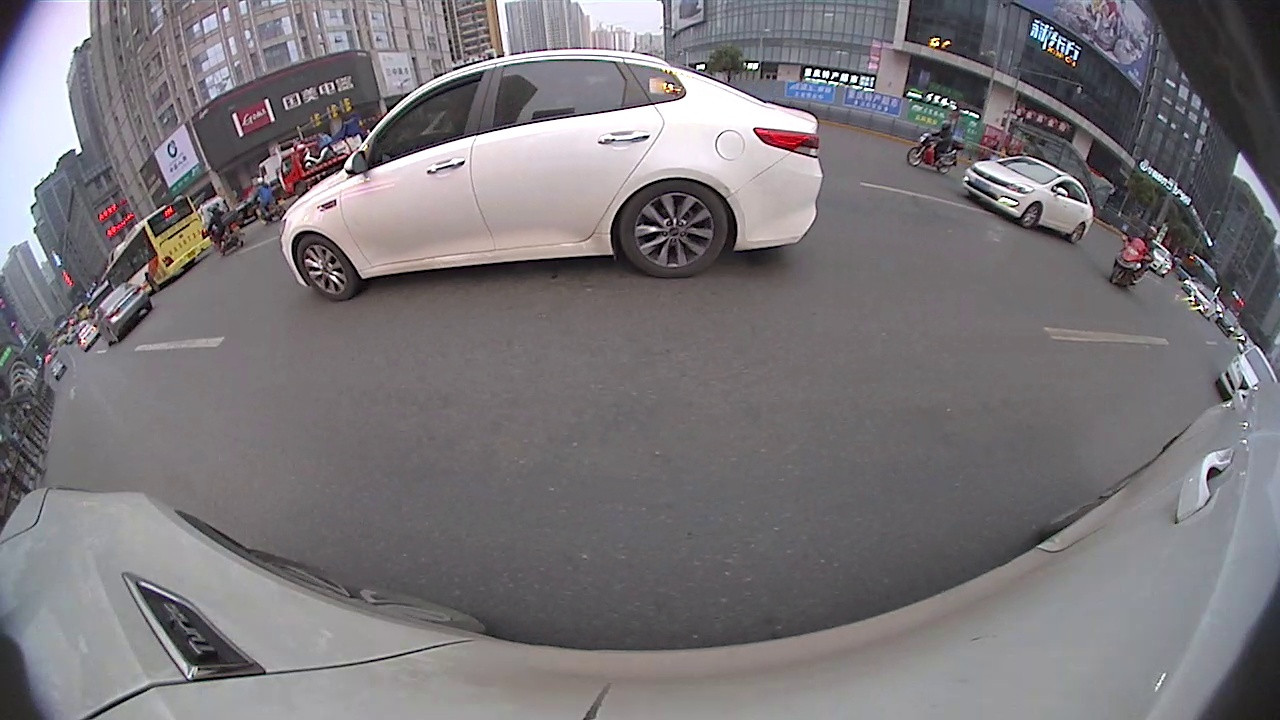bus: (101, 196, 210, 306)
car: (283, 44, 826, 307), (961, 160, 1099, 241), (97, 280, 154, 344), (1222, 347, 1279, 408)
front: (295, 233, 359, 302), (1019, 201, 1042, 230), (906, 146, 926, 168)
rear: (613, 176, 729, 280), (1067, 222, 1085, 246)
rider: (906, 121, 969, 176), (1110, 224, 1159, 289), (210, 200, 241, 258)
